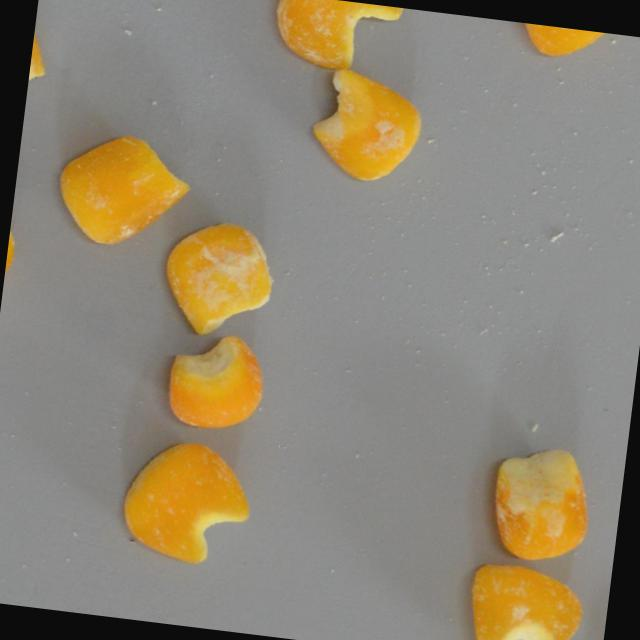pelicula: (117, 433, 257, 568), (51, 125, 194, 252), (158, 214, 281, 343), (305, 63, 428, 188), (485, 439, 597, 566), (268, 0, 404, 78), (464, 559, 588, 640), (515, 22, 618, 63), (24, 2, 52, 106)
